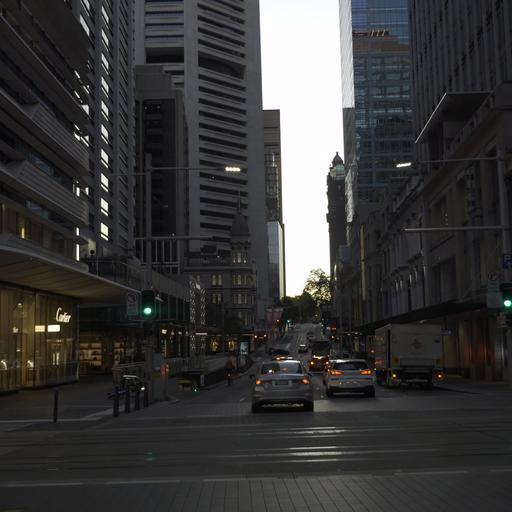Street light: (394, 150, 511, 383), (134, 163, 242, 406), (394, 153, 511, 169), (140, 288, 155, 319), (500, 281, 511, 309)
